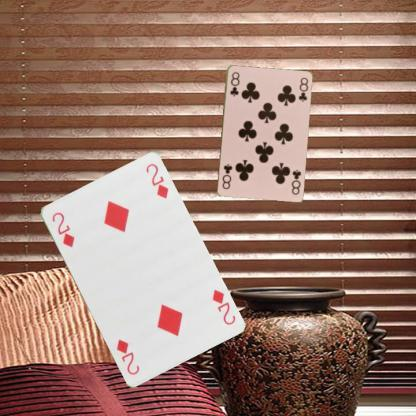2d: (48, 209, 76, 249), (209, 286, 236, 326)
8c: (289, 167, 302, 195), (228, 69, 240, 98)
